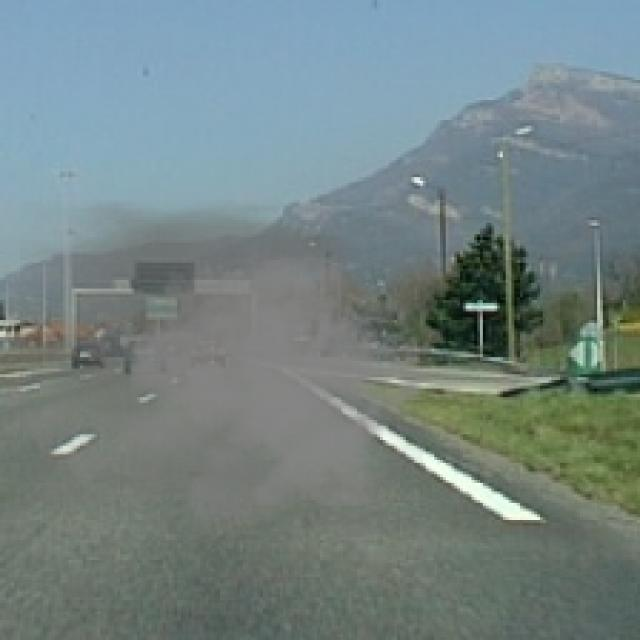Smoke: (20, 200, 437, 543)
